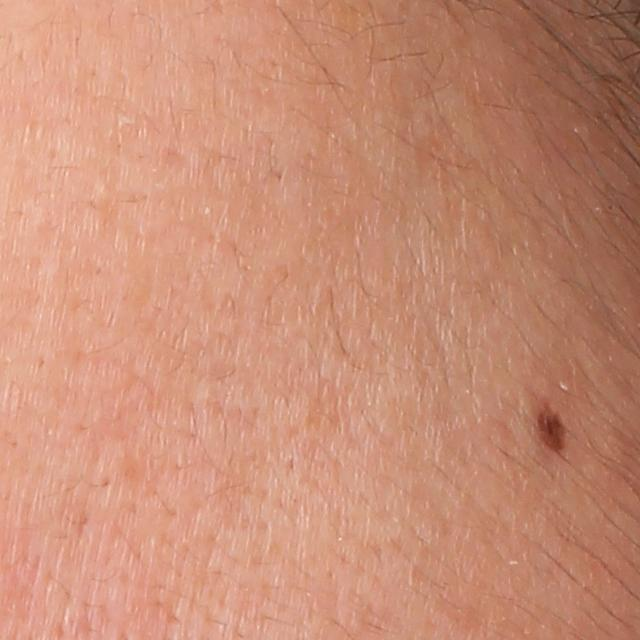nevus: (530, 401, 568, 452)
